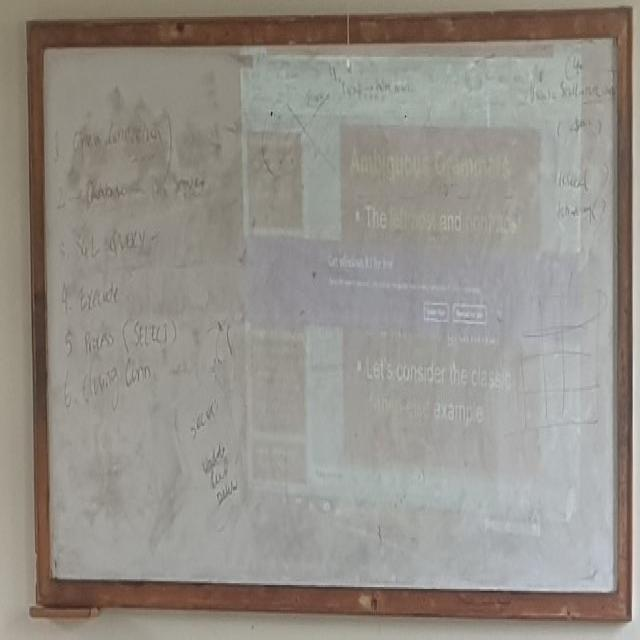Slide: (239, 31, 581, 548)
White-board: (34, 25, 624, 617)
